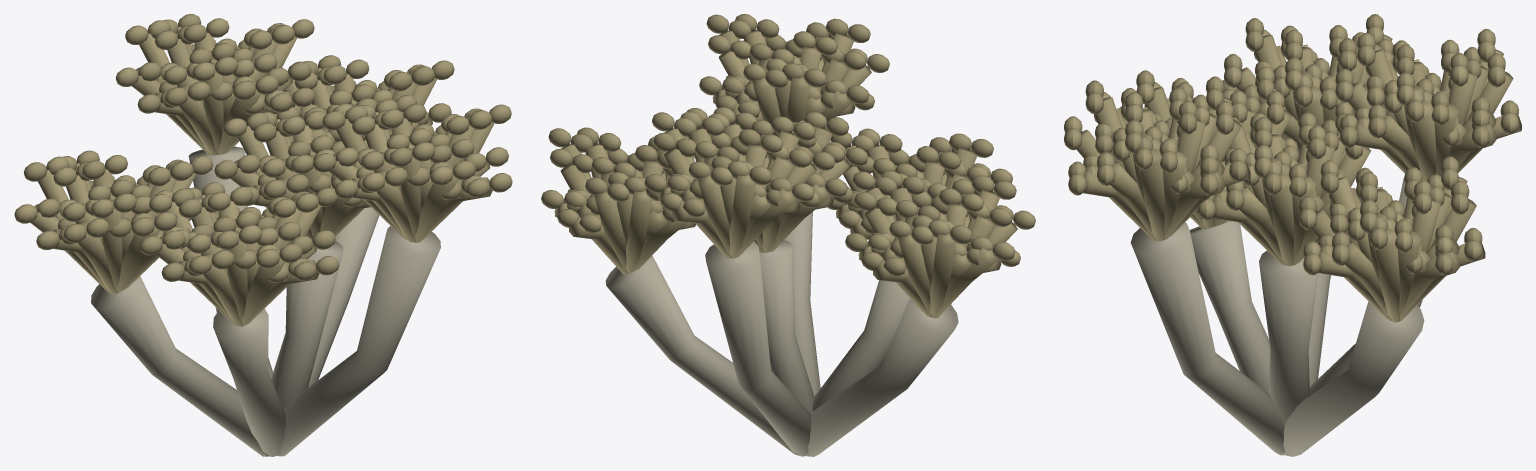
Rendered from hammer-desktop.glb.
The picture shows the model from 3 angles, left to right: view 1: azimuth 30°, elevation 25°; view 2: azimuth 150°, elevation 25°; view 3: azimuth 270°, elevation 25°; orthographic projection. The views are drawn at different scales.
Parts seen in each view (by area): view 1: fleshy-tentacle, branching-corallum; view 2: fleshy-tentacle, branching-corallum; view 3: fleshy-tentacle, branching-corallum.
Part boxes in pixels (x1,y1,x2,y2): fleshy-tentacle: (14,14,512,326); branching-corallum: (91,146,440,456); fleshy-tentacle: (541,14,1035,318); branching-corallum: (605,212,958,456); fleshy-tentacle: (1064,14,1521,322); branching-corallum: (1130,178,1424,456).
Bounding box in the file's own units: 0.651 × 0.5053 × 0.5254.
